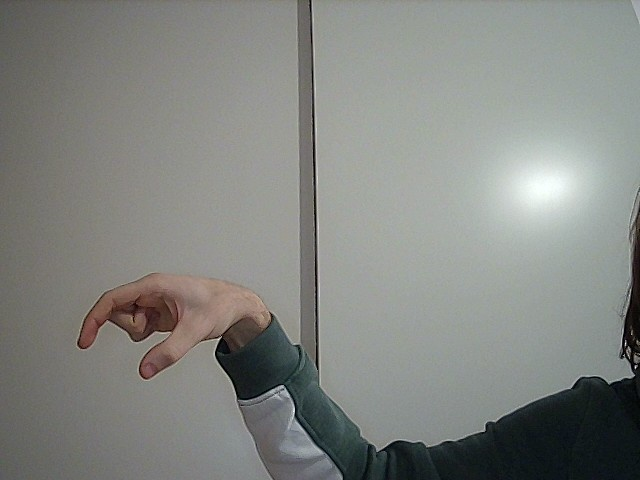q: (60, 268, 270, 387)
